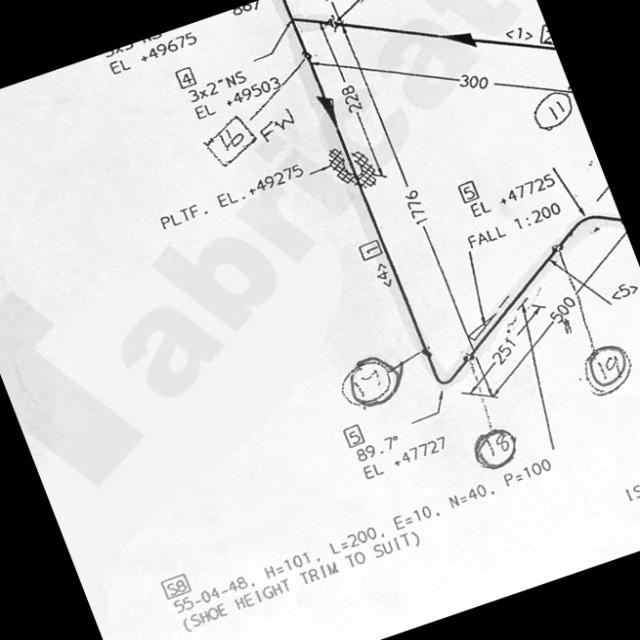Item number: (159, 570, 193, 603), (340, 421, 367, 451), (454, 177, 480, 207), (172, 63, 199, 91), (357, 235, 383, 263)
Measrement: (336, 22, 455, 311), (320, 24, 389, 181), (471, 304, 535, 396)
Symbol: (417, 341, 462, 391)
Weld number: (338, 349, 407, 412), (581, 339, 634, 402), (470, 425, 521, 475), (530, 86, 578, 135)
other: (181, 452, 558, 639), (155, 162, 307, 234), (464, 196, 566, 251), (188, 65, 285, 121), (464, 166, 561, 219)
